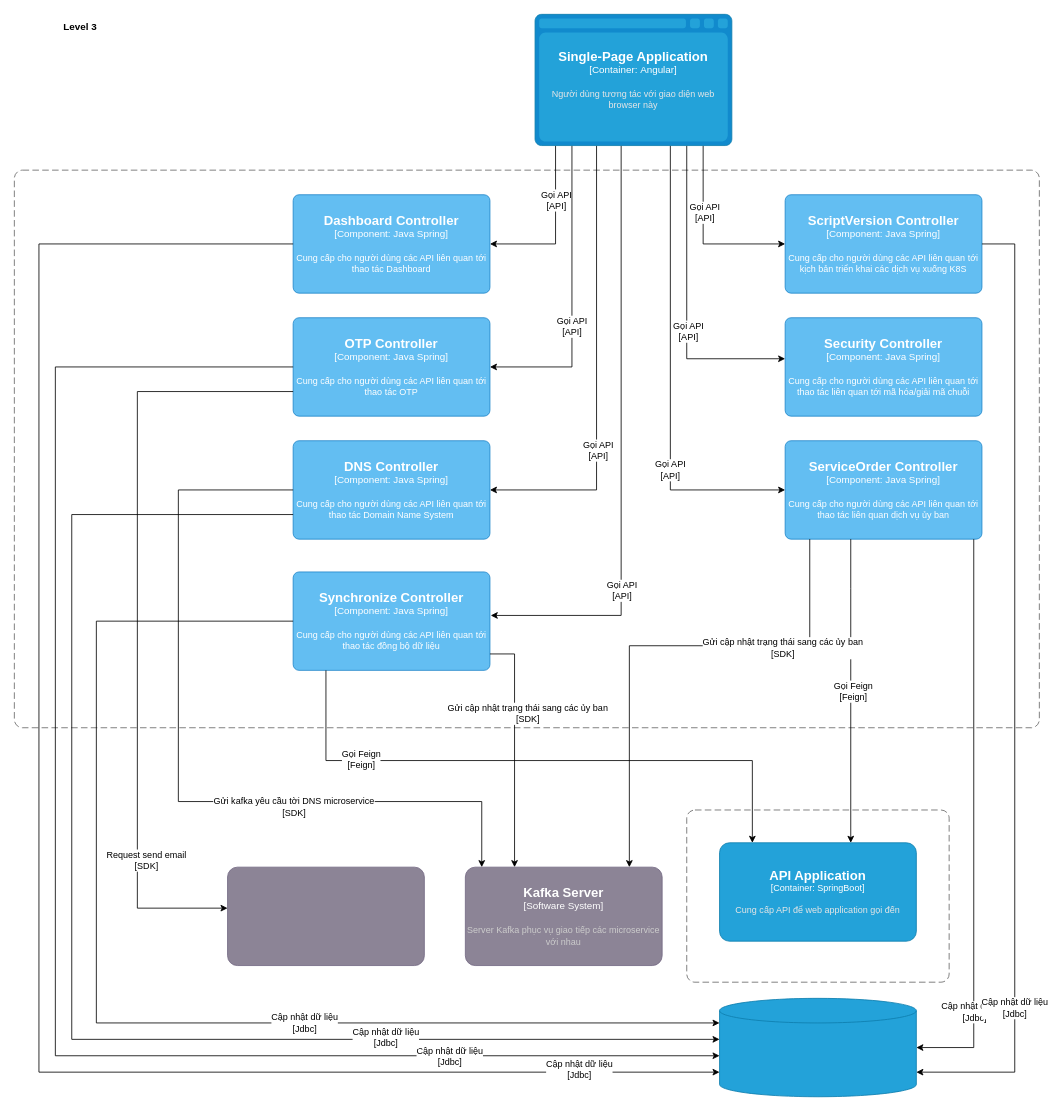
This 1062x1111 diagram has some shape labels left out. The shapes that lost their labels are listed below. From the top down, each one's box as (x1, y1, x2, y2) in pixels, then its label:
(14, 169, 1039, 728): API Application [Container]
(686, 809, 949, 982): Rancher Service [Software System]
(227, 866, 424, 966): VNPT Email [Software System] Gửi nhận Email VNPT
(719, 998, 916, 1097): Database [Container: MySQL] MySQL Database Schema
